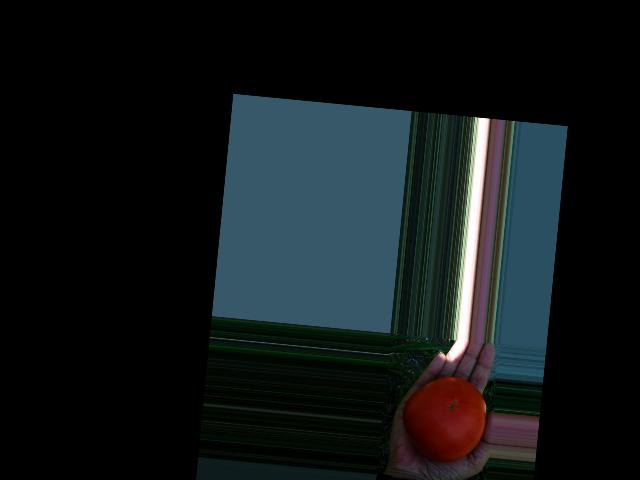tomato: (398, 372, 489, 465)
